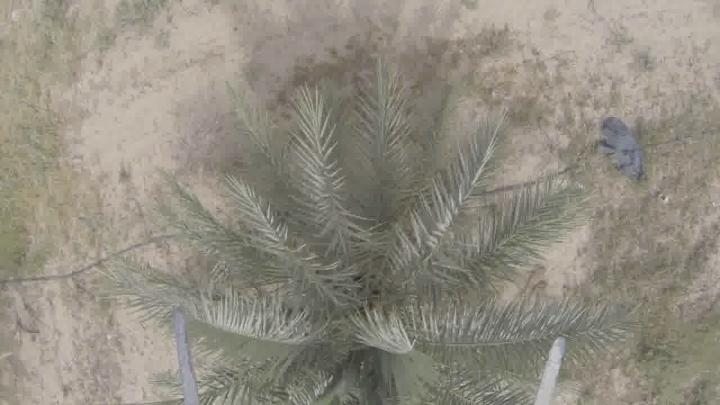Date-Palm-Crown: (223, 167, 529, 405)
